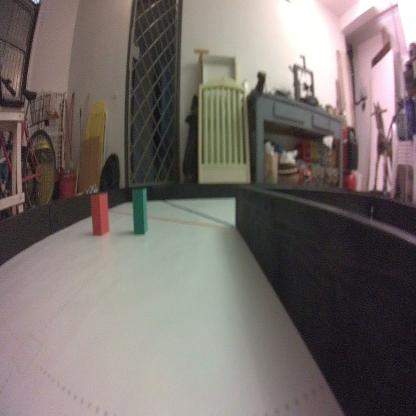green: (131, 186, 149, 236)
red: (88, 190, 110, 238)
